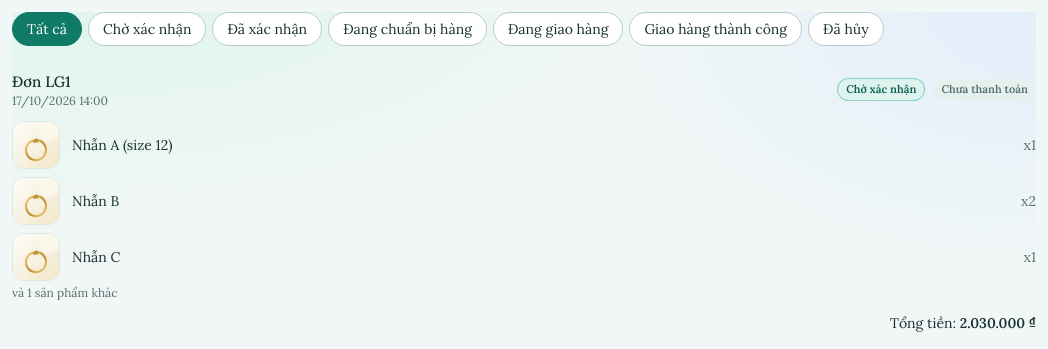
Scenario: OrdersView › tab lọc theo trạng thái gọi API với status và về trang 1
Expected: the text "Đơn LG1" is shown, [12,72,71,91]
Click the tab "Đã hủy".
click(846, 29)  # box [808,12,884,46]
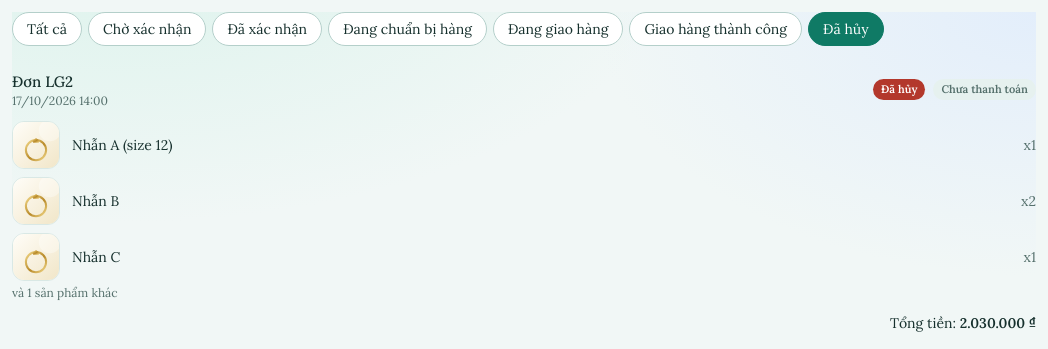
Now the text "Đơn LG2" is shown, box [12,72,73,91]
